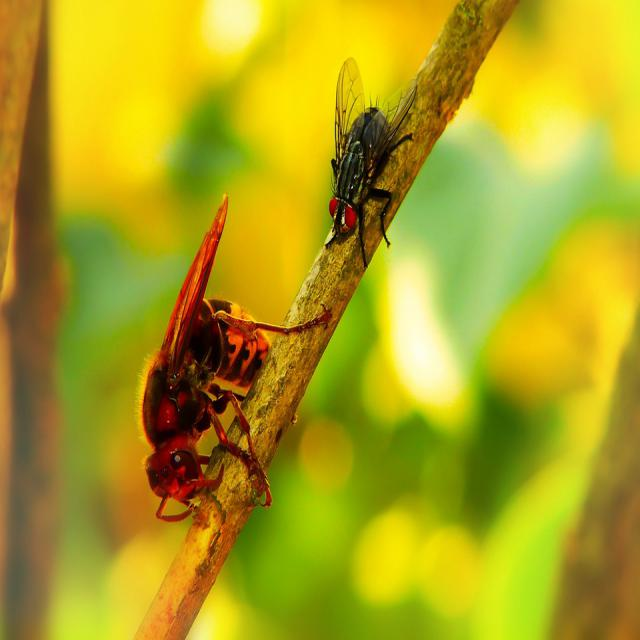Vespa Crabro: (114, 174, 338, 526)
